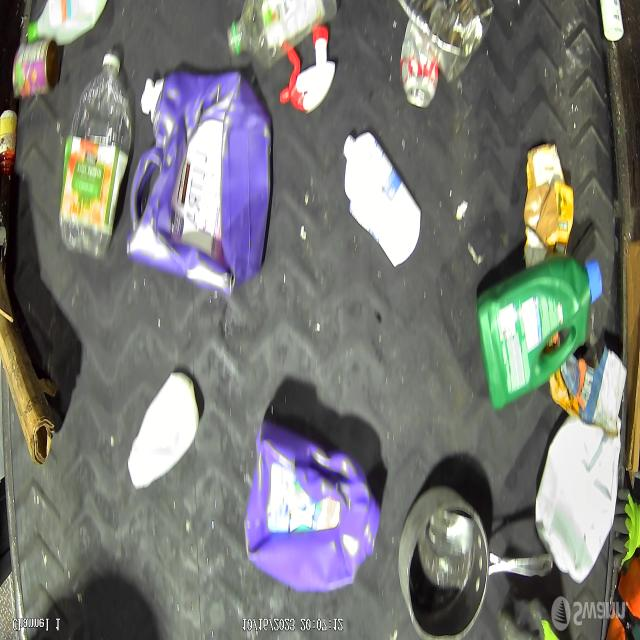can: (400, 15, 439, 112), (11, 39, 61, 98)
milk_jug: (535, 415, 623, 585), (27, 0, 107, 47)
non_white_jug: (125, 68, 274, 294), (244, 418, 381, 592), (477, 256, 603, 413)
plastic_bottle: (58, 52, 133, 264), (226, 0, 339, 69)
